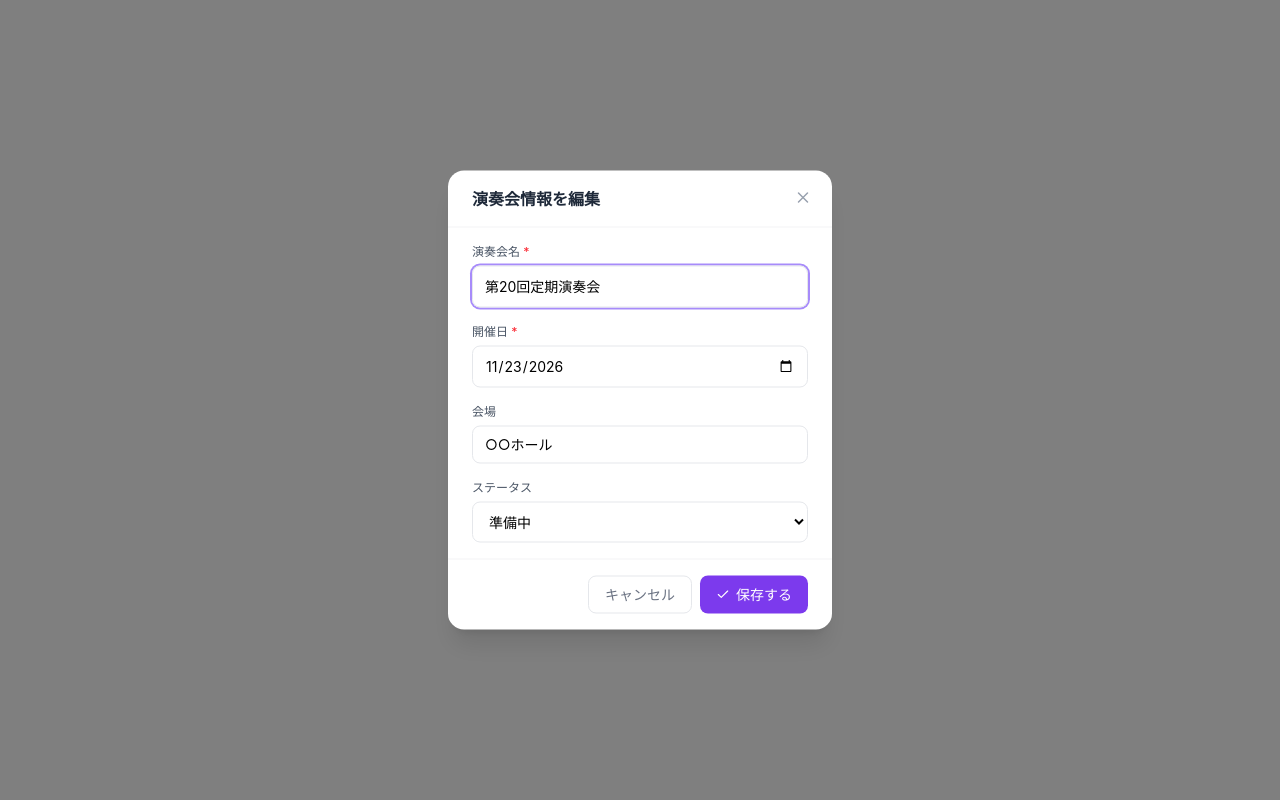
Scenario: EditConcertModal（バリデーション） › 開催日を空にして送信するとエラーメッセージを表示する
Clear the date field showing "2026-11-23" at {"x": 640, "y": 366}, box [472,346,808,388]
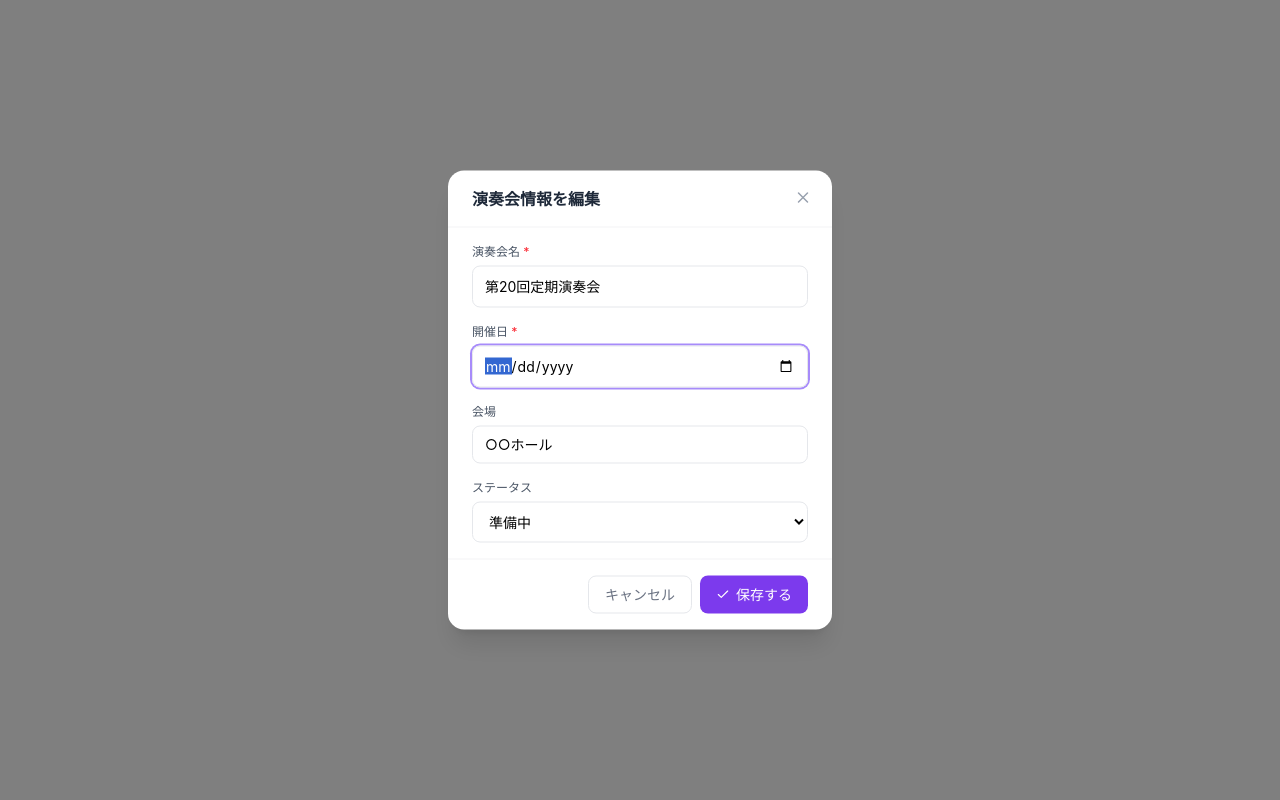
Click the button "保存する" at {"x": 754, "y": 594}, box [700,576,808,614]
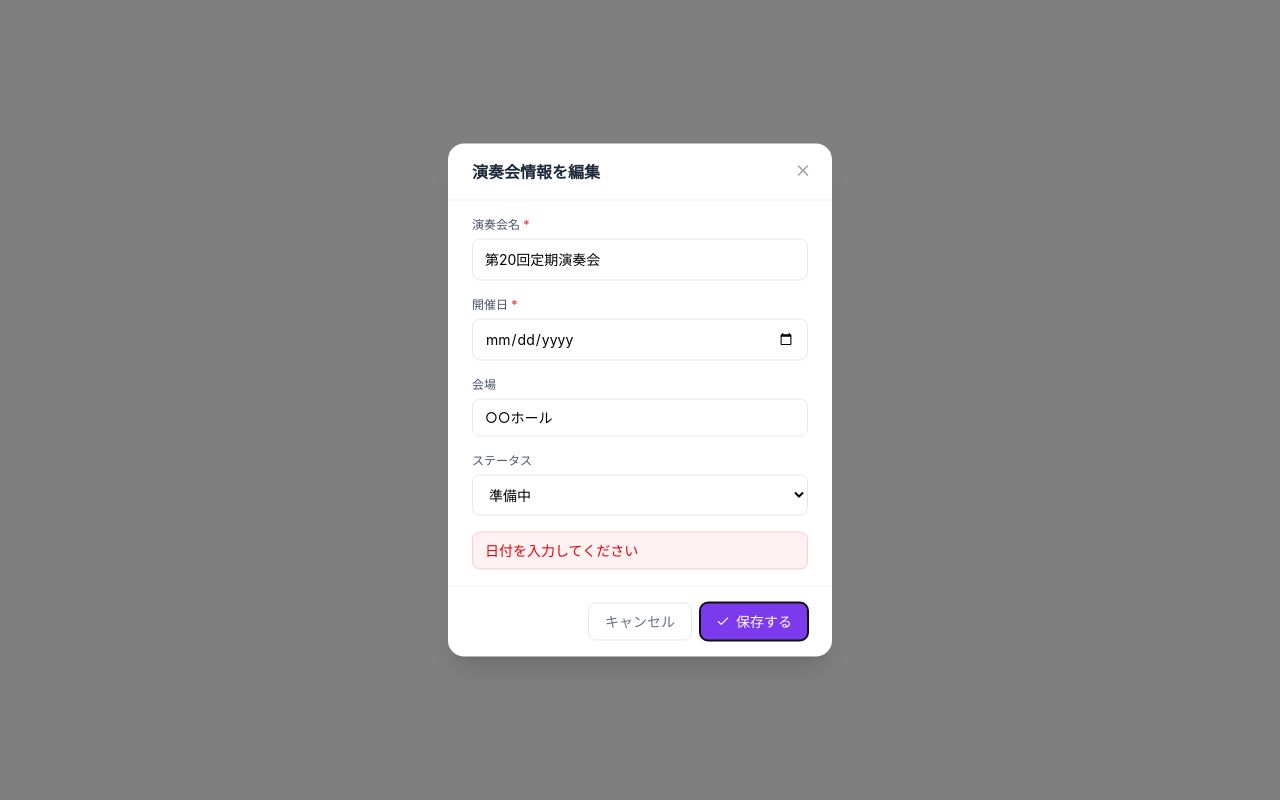
Check: the text "日付を入力してください" is shown, box [472,532,808,570]
